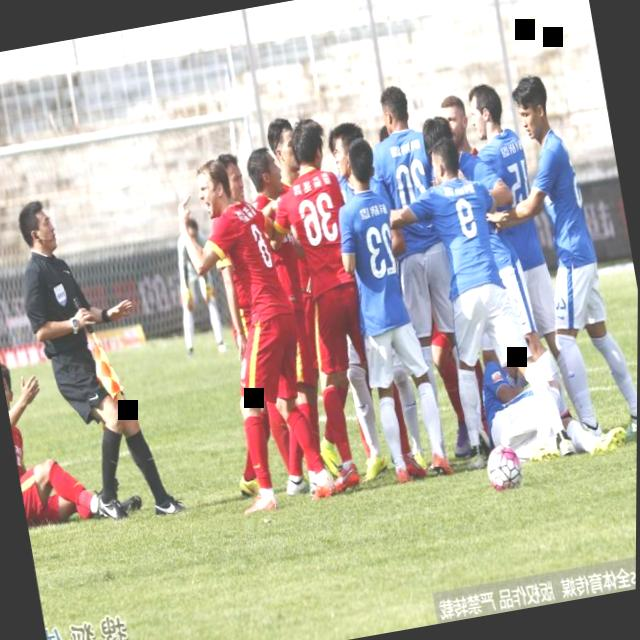Fall-Detected: (456, 307, 638, 483)
